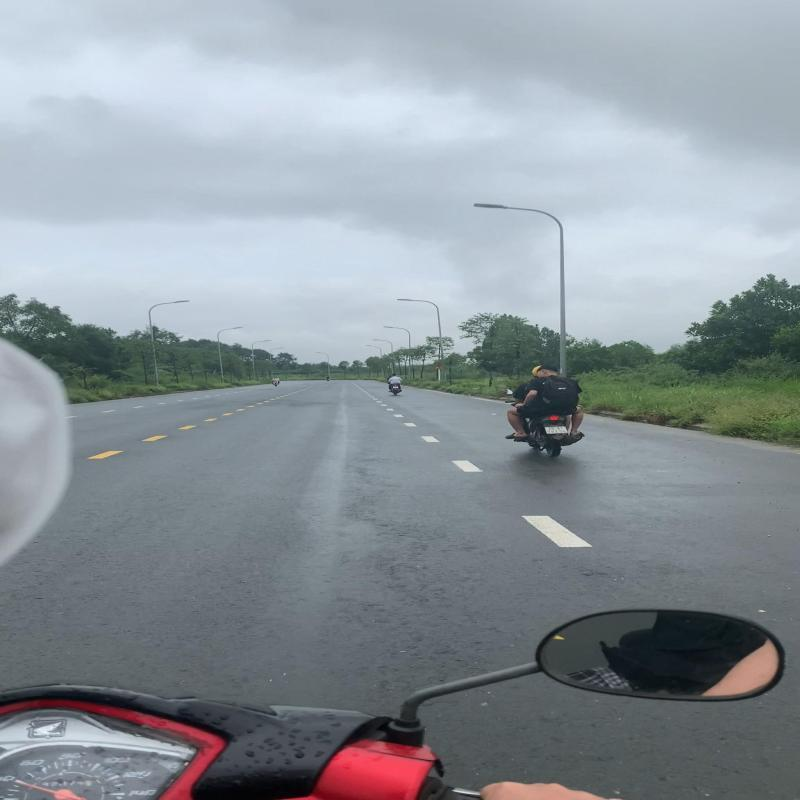licenseplate: (542, 425, 569, 435)
motorcyclist: (500, 364, 589, 458)
nohelmet: (536, 365, 560, 377)
